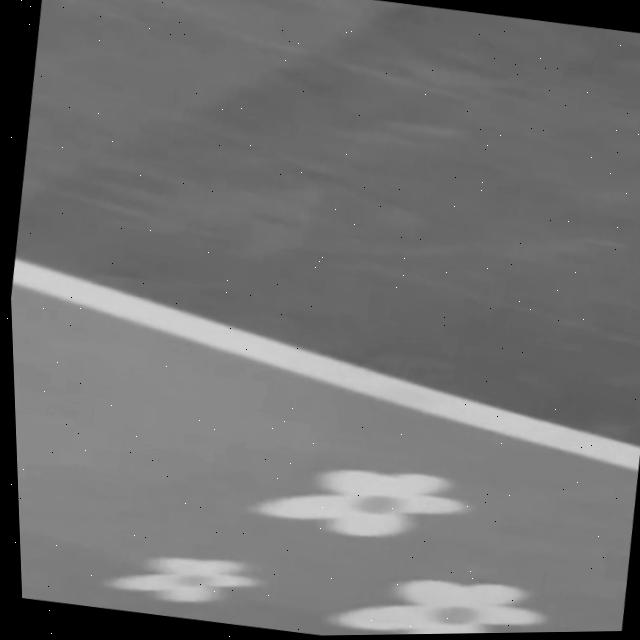right: (13, 257, 640, 469)
